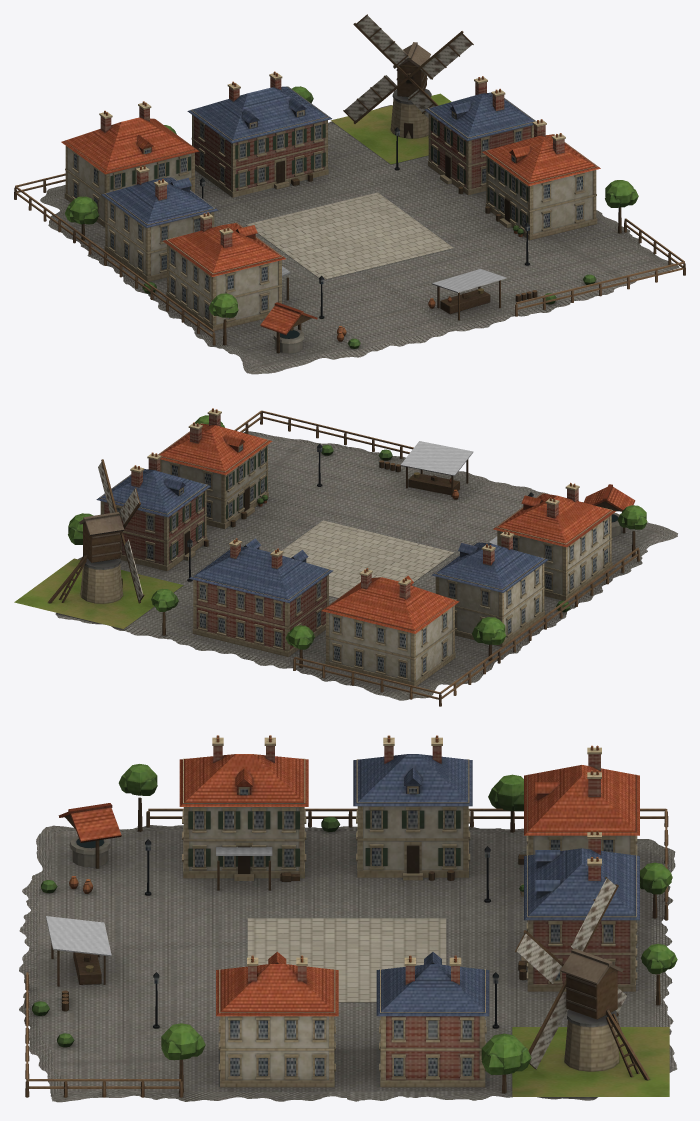
The model's file is gunpowder-town-small-b.glb.
3 views of the same model, one above another, from view 1: azimuth 30°, elevation 25°; view 2: azimuth 150°, elevation 25°; view 3: azimuth 270°, elevation 25° (orthographic). The views are drawn at different scales.
Visible parts, largest first — view 1: LOD0; view 2: LOD0; view 3: LOD0.
Part boxes in pixels (x1,y1,x2,y2): LOD0: (14, 14, 685, 374); LOD0: (14, 408, 677, 706); LOD0: (19, 735, 677, 1102).
Size of what is drawn, in the model's own units: 4.02 by 1.08 by 4.06.
3 materials, 3 textured.
